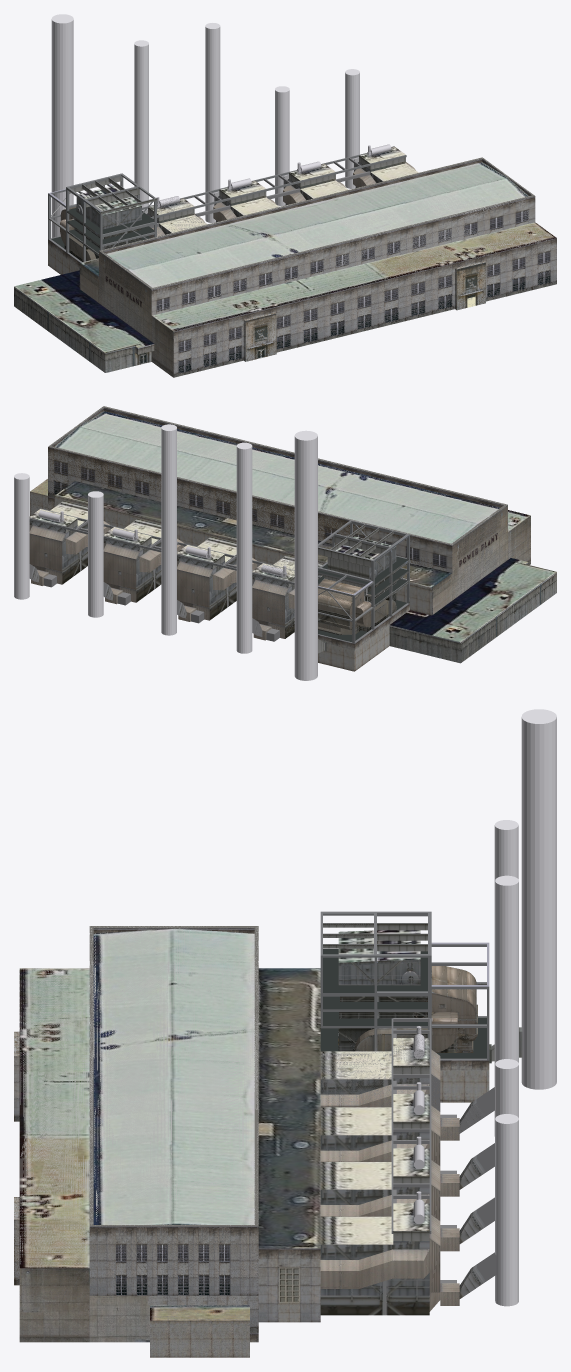
The model's file is powerplant.dae.
The picture shows the model from 3 angles, top to bottom: view 1: azimuth 30°, elevation 25°; view 2: azimuth 150°, elevation 25°; view 3: azimuth 270°, elevation 25°; orthographic projection. The views are drawn at different scales.
Visible parts, largest first — view 1: skp45F7 (×24), Component (×3), Component_1; view 2: skp45F7 (×28), Component (×12), Component_1 (×2); view 3: skp45F7 (×26), Component (×13), Component_1 (×4).
Part boxes in pixels (box(x1,y1,x2,y2)): skp45F7 (×24): box(14, 14, 556, 377); Component (×3): box(230, 161, 418, 215); Component_1: box(159, 213, 206, 232); skp45F7 (×28): box(14, 406, 556, 680); Component (×12): box(29, 500, 257, 621); Component_1 (×2): box(252, 575, 321, 640); skp45F7 (×26): box(19, 709, 556, 1357); Component (×13): box(320, 1094, 429, 1315); Component_1 (×4): box(320, 1038, 429, 1107).
Bounding box in the file's own units: 3903 × 2545 × 1891.
Materials: 39 (28 with a texture image).
